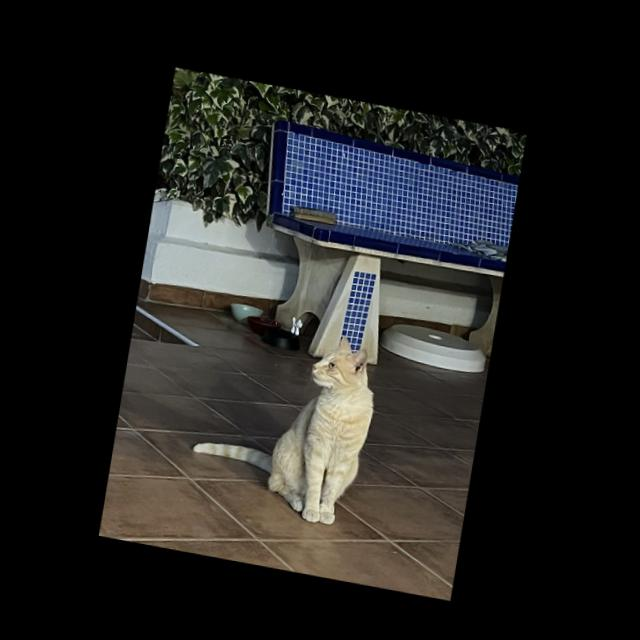animals: (186, 309, 384, 526)
